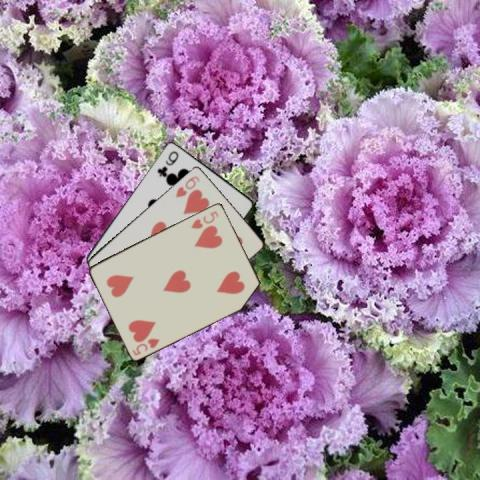5h: (130, 334, 162, 357), (187, 208, 220, 230)
6h: (173, 172, 201, 198)
9c: (154, 147, 180, 178)
